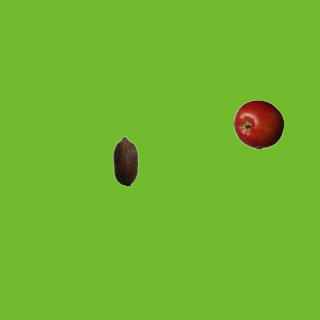Apple Braeburn: (233, 99, 283, 149)
Nut Pecan: (100, 135, 150, 185)
